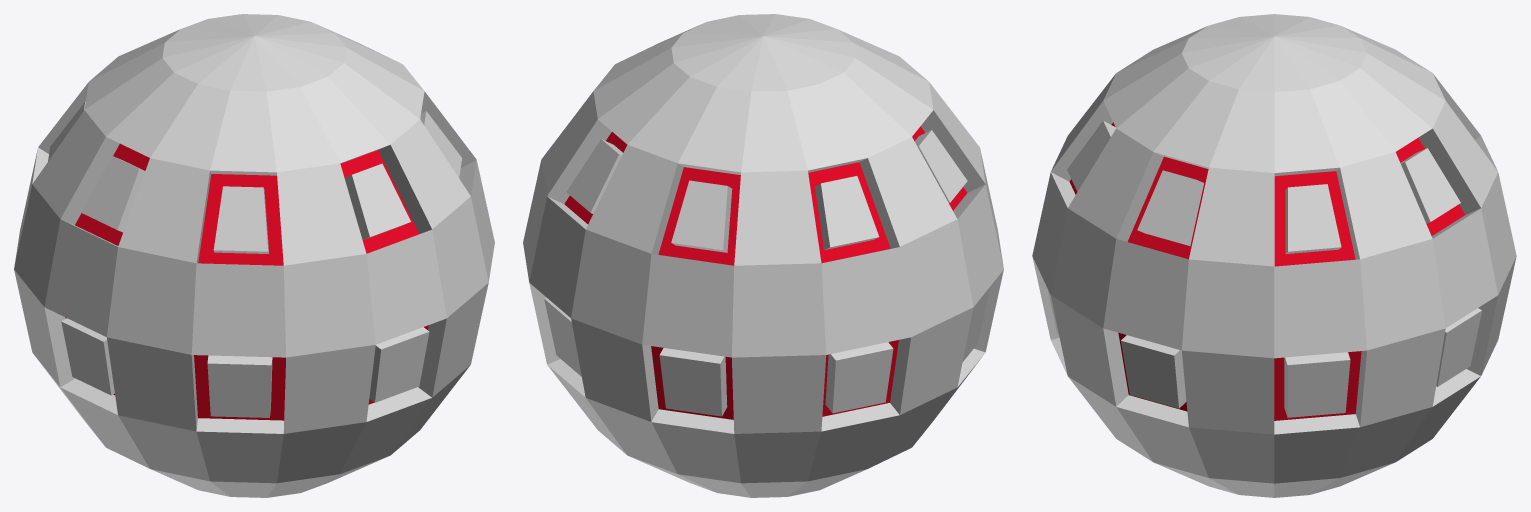
The model's file is mine.fbx.
3 views of the same model, side by side, from view 1: azimuth 30°, elevation 25°; view 2: azimuth 150°, elevation 25°; view 3: azimuth 270°, elevation 25° (orthographic).
Visible parts, largest first — view 1: Sphere; view 2: Sphere; view 3: Sphere.
Boxes of the visible parts, bbox=[...] form: Sphere: bbox=[14, 14, 494, 497]; Sphere: bbox=[523, 14, 1003, 497]; Sphere: bbox=[1032, 14, 1516, 497].
Bounding box in the file's own units: 400 × 400 × 400.
